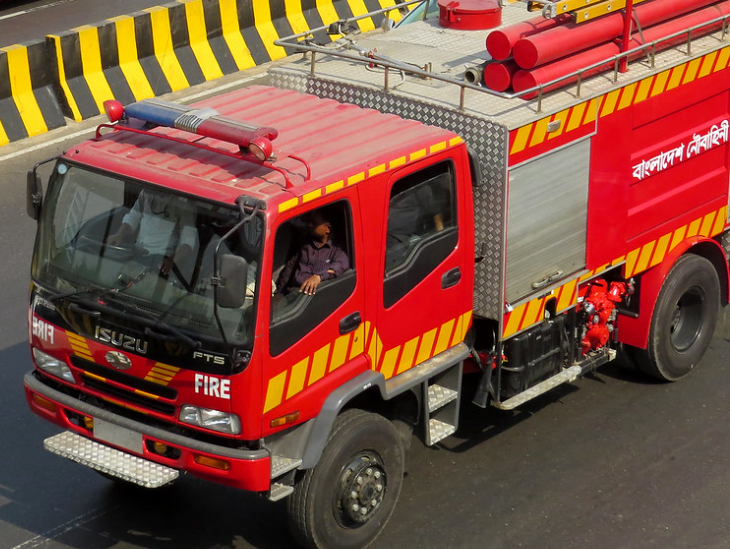Fire truck: (22, 0, 728, 549)
